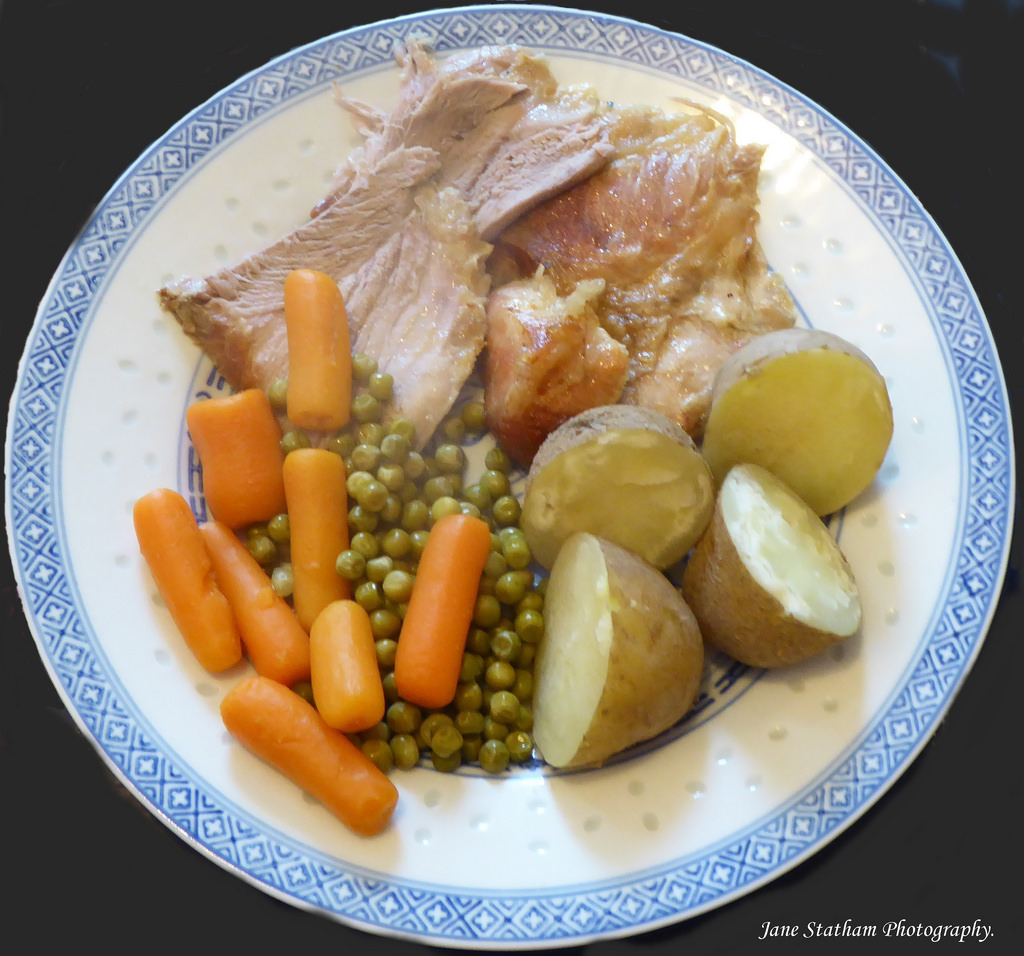boiled peas: (373, 449, 414, 534), (404, 721, 470, 762), (486, 637, 501, 696)
boiled potatoes: (686, 475, 858, 649), (719, 329, 878, 516), (545, 534, 696, 729), (560, 414, 709, 562)
